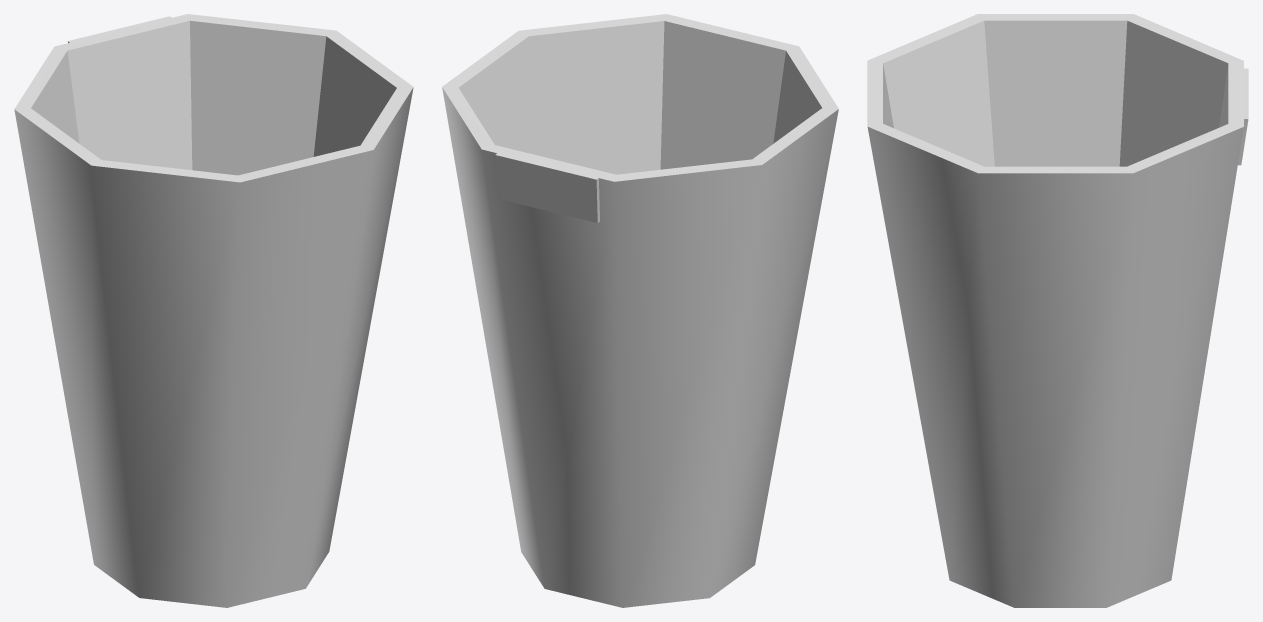
The model's file is Itr_Trashcan3_Body_01.FBX.
3 renders of one model, left to right at view 1: azimuth 30°, elevation 25°; view 2: azimuth 150°, elevation 25°; view 3: azimuth 270°, elevation 25°, orthographic.
Parts seen in each view (by area): view 1: Itr_Trashcan3_Body_01; view 2: Itr_Trashcan3_Body_01; view 3: Itr_Trashcan3_Body_01.
Boxes of the visible parts, x1,y1,x2,y2 form: Itr_Trashcan3_Body_01: [14, 14, 413, 607]; Itr_Trashcan3_Body_01: [442, 14, 838, 607]; Itr_Trashcan3_Body_01: [867, 14, 1248, 607].
Size of the model in its own units: 13.72 by 18.79 by 13.88.
